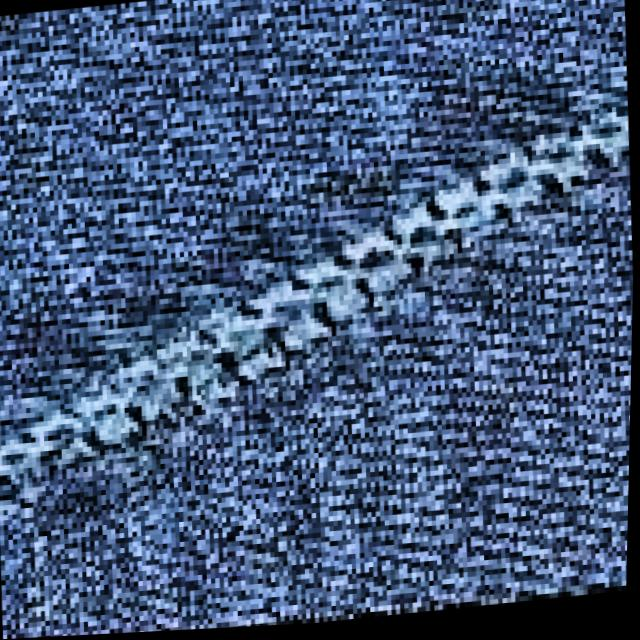seam: (26, 103, 632, 435)
